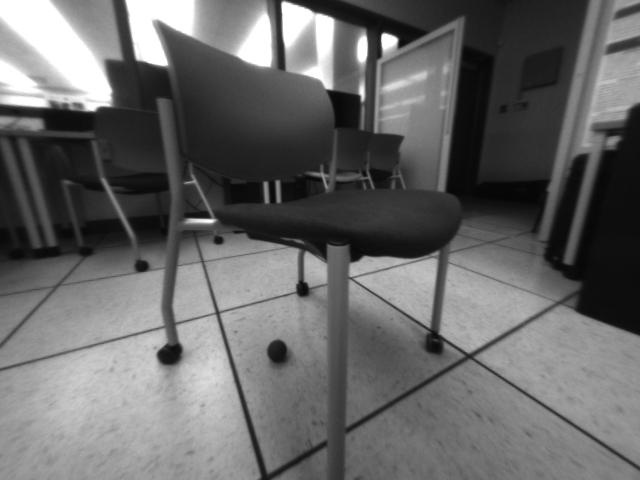dogtoy: (262, 334, 295, 368)
